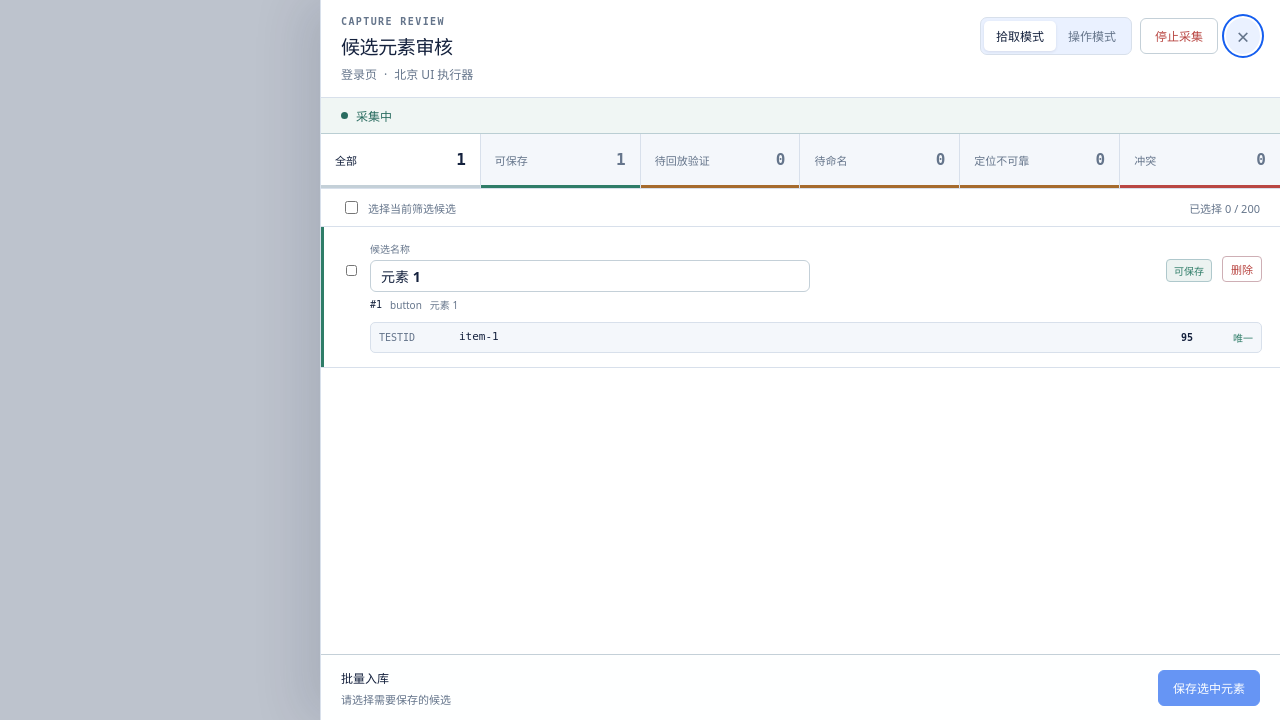
Test: ElementCaptureDrawer › 保存响应缺少 ID 时保留候选和选择并显示错误
Click the checkbox named "选择 元素 1". click: (352, 270)
box: [346,264,357,277]
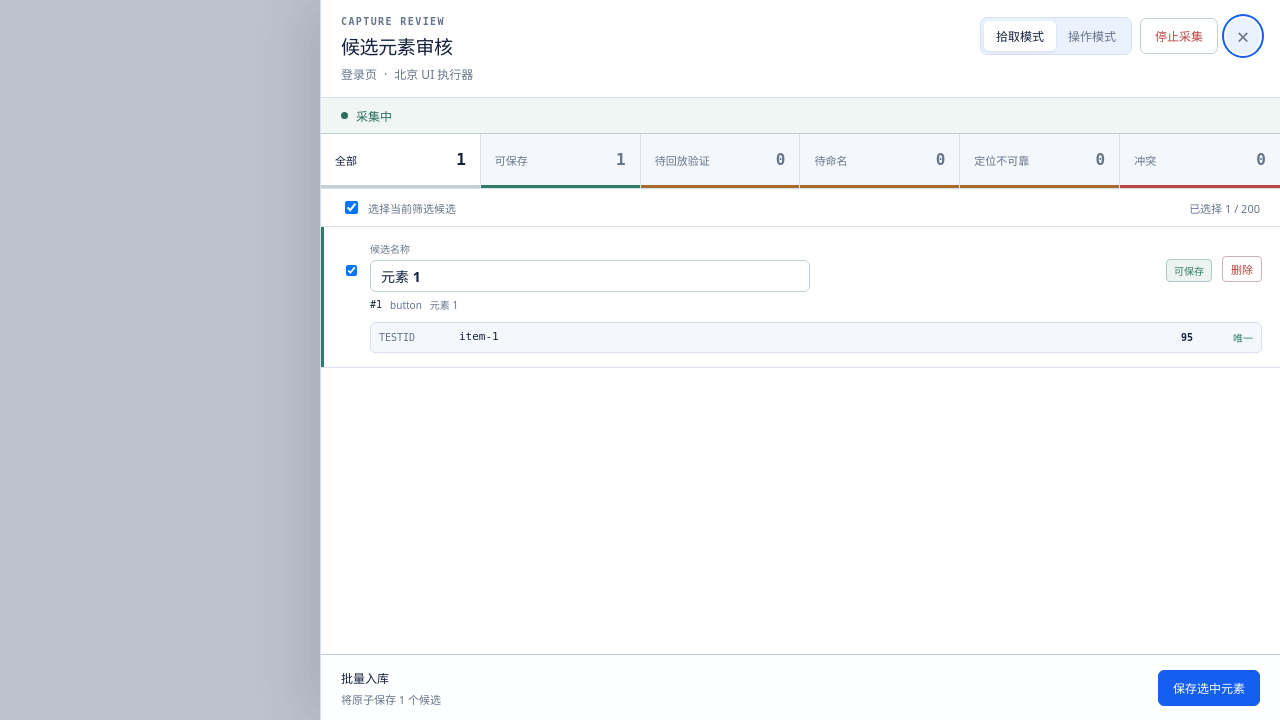
Click the button "保存选中元素". click: (1209, 688)
box: [1158,670,1260,706]
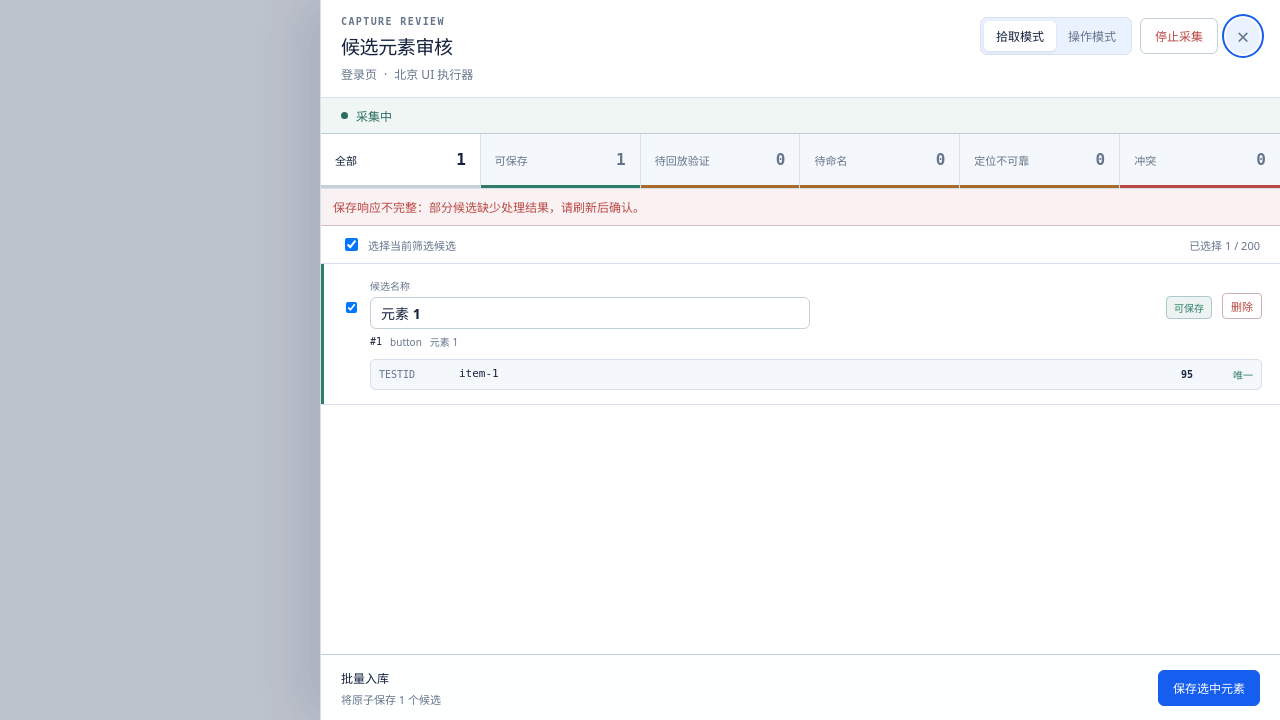
Expected: the element with test id "element-capture-candidate-1" is shown, [321,264,1279,405]
Expected: the checkbox named "选择 元素 1" is checked, [346,301,357,314]
Expected: the message "保存响应不完整：部分候选缺少处理结果，请刷新后确认。" is shown, [321,189,1279,226]
